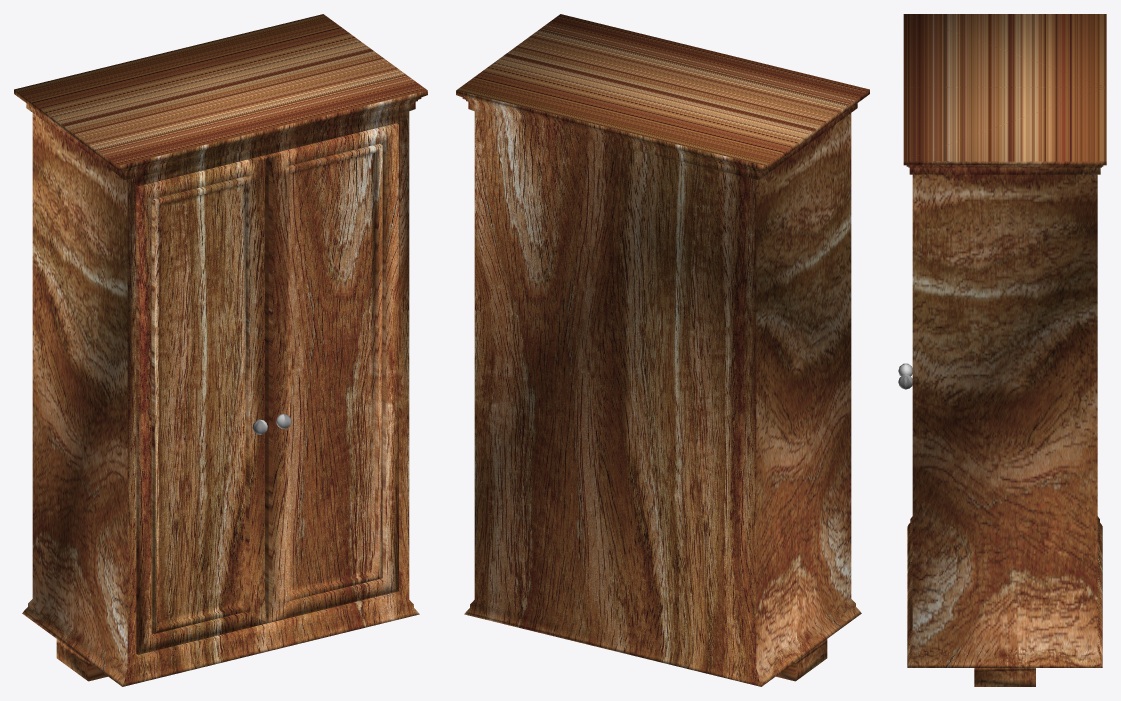
The model's file is Bedroom_tuskact4.glb.
3 views of the same model, side by side, from view 1: azimuth 30°, elevation 25°; view 2: azimuth 150°, elevation 25°; view 3: azimuth 270°, elevation 25° (orthographic). The views are drawn at different scales.
Visible parts, largest first — view 1: Cube.024; view 2: Cube.024; view 3: Cube.024, Icosphere.
Part boxes in pixels (x1,y1,x2,y2): Cube.024: [14, 14, 427, 686]; Cube.024: [456, 14, 869, 686]; Cube.024: [903, 14, 1106, 686]; Icosphere: [898, 363, 912, 389].
Bounding box in the file's own units: 2.4 × 4.03 × 1.44.
Materials: 2 (2 with a texture image).
